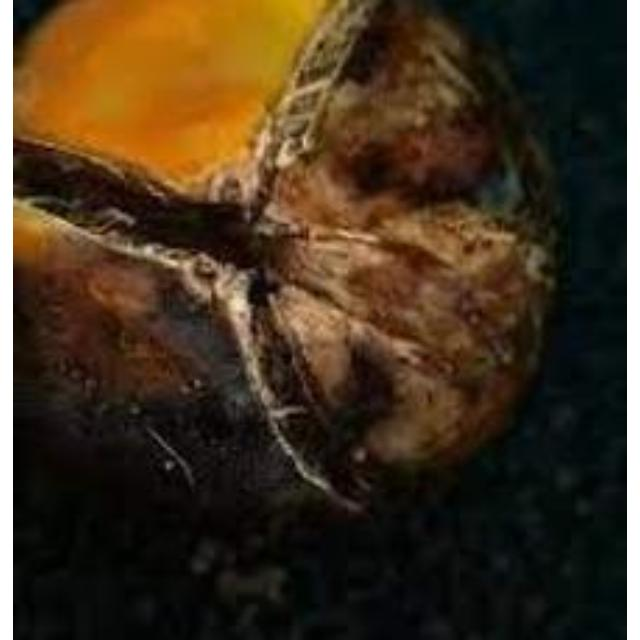damaged: (13, 0, 558, 509)
